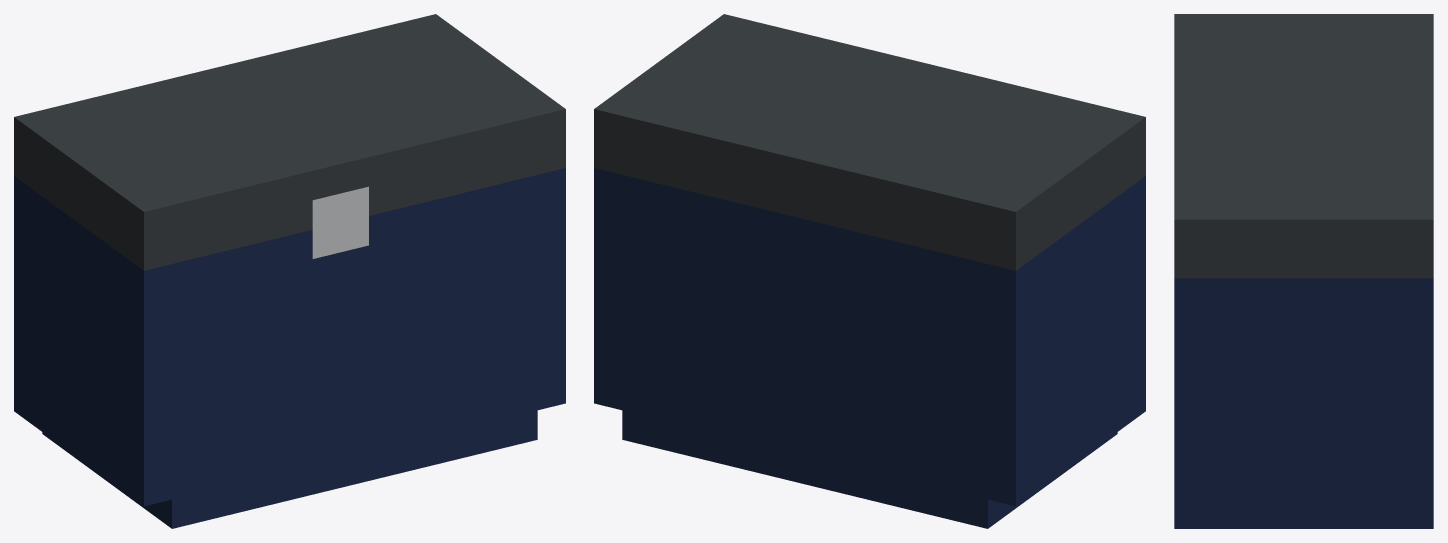
File: touring_bike_pannier.glb
3 renders of one model, left to right at view 1: azimuth 30°, elevation 25°; view 2: azimuth 150°, elevation 25°; view 3: azimuth 270°, elevation 25°, orthographic.
Visible parts, largest first — view 1: body:compound; view 2: body:compound; view 3: body:compound.
Part boxes in pixels (x1,y1,x2,y2): body:compound: (14, 14, 565, 528); body:compound: (594, 14, 1145, 528); body:compound: (1174, 14, 1433, 528).
Bounding box in the file's own units: 0.4688 × 0.3438 × 0.25.
